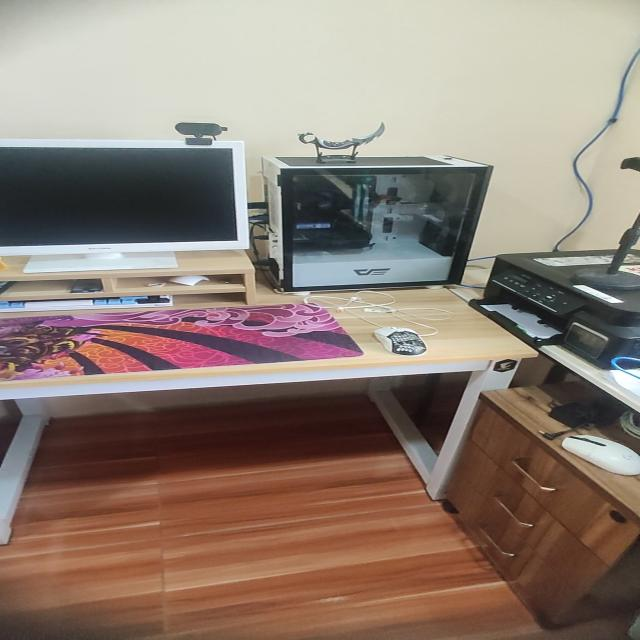table: (0, 276, 542, 546)
